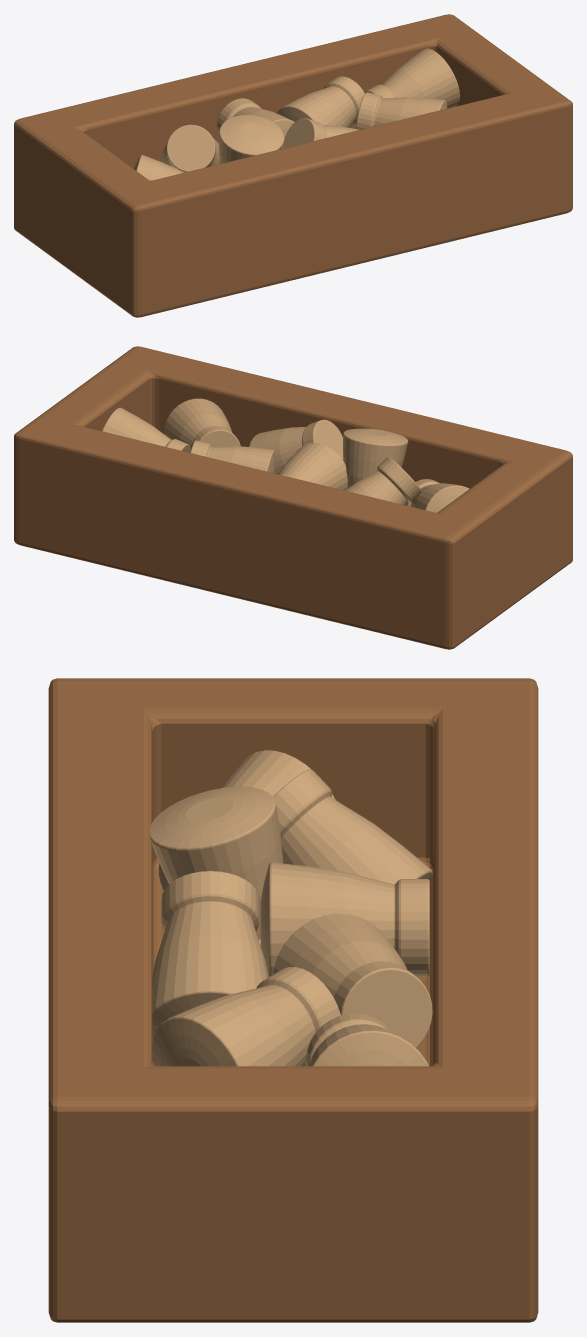
The model's file is AmmoBox.fbx.
3 views of the same model, one above another, from view 1: azimuth 30°, elevation 25°; view 2: azimuth 150°, elevation 25°; view 3: azimuth 270°, elevation 25° (orthographic). The views are drawn at different scales.
Visible parts, largest first — view 1: AmmoBox; view 2: AmmoBox; view 3: AmmoBox.
Boxes of the visible parts, <box> form: AmmoBox: <box>14,14,572,317</box>; AmmoBox: <box>14,346,572,649</box>; AmmoBox: <box>48,678,538,1322</box>.
Bounding box in the file's own units: 189 × 51.13 × 91.12.
